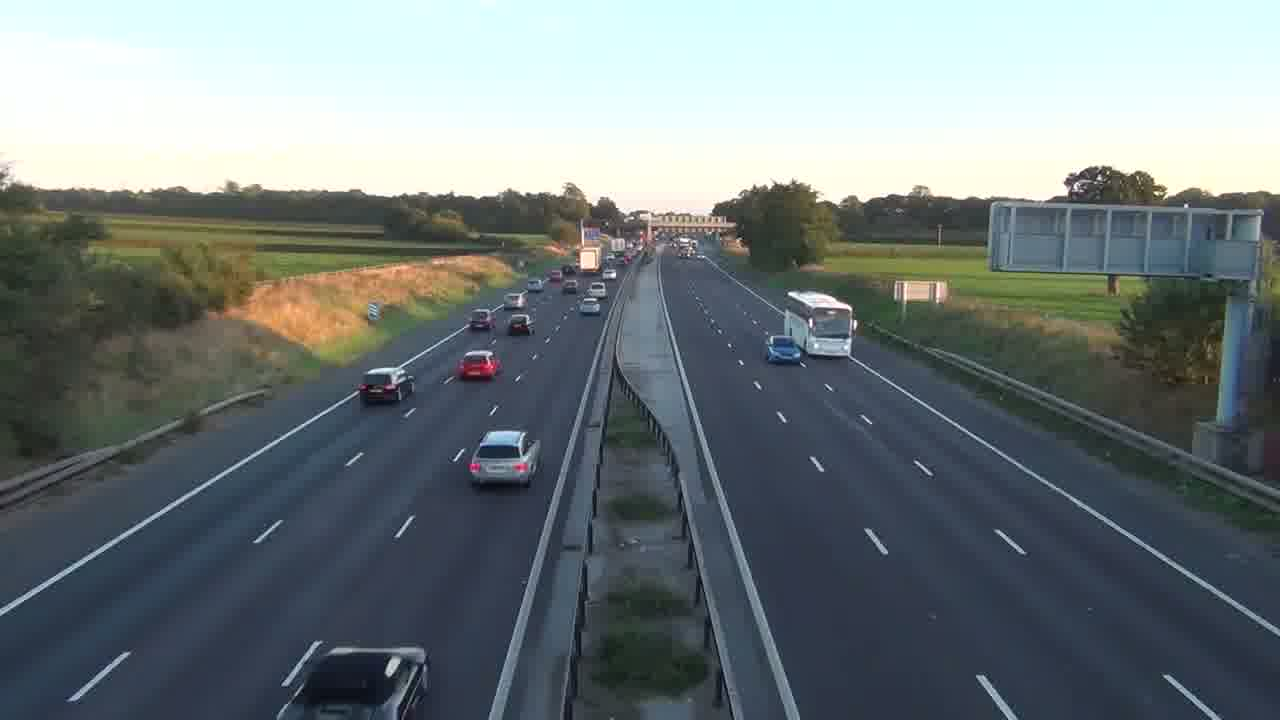bus: (784, 289, 855, 359)
car: (275, 640, 430, 718), (466, 429, 543, 488), (456, 349, 502, 382), (765, 336, 804, 366)
